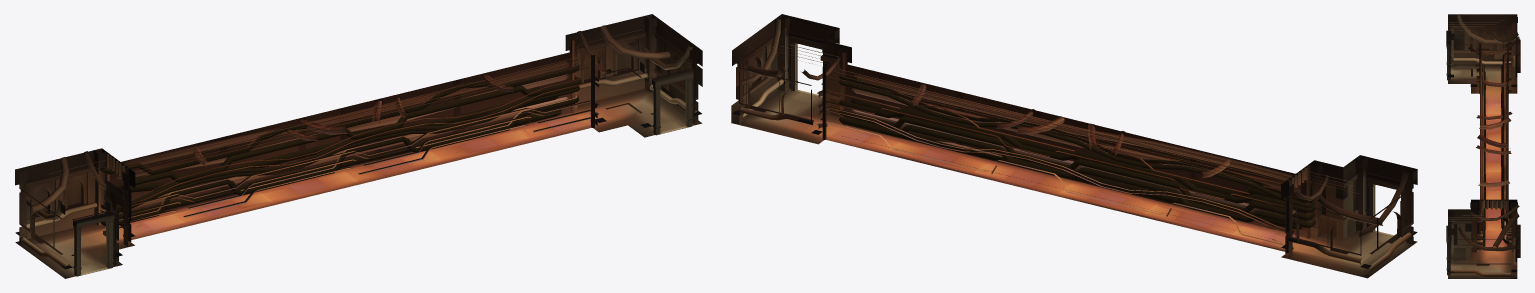
Rendered from 05Hall.gltf.
3 views of the same model, side by side, from view 1: azimuth 30°, elevation 25°; view 2: azimuth 150°, elevation 25°; view 3: azimuth 270°, elevation 25° (orthographic). The views are drawn at different scales.
Parts seen in each view (by area): view 1: stg031_g30_Mesh_0000, stg031_o30_Mesh_0006, stg031_o30_Mesh_0000, stg031_o30_Mesh_0031, stg031_o30_Mesh_0028, stg031_o30_Mesh_0002, stg031_o30_Mesh_0021, stg031_o30_Mesh_0010, stg031_o30_Mesh_0034, stg031_o30_Mesh_0020, stg031_o30_Mesh_0019, stg031_o30_Mesh_0013 (+6 smaller); view 2: stg031_g30_Mesh_0000, stg031_o30_Mesh_0006, stg031_o30_Mesh_0000, stg031_o30_Mesh_0031, stg031_o30_Mesh_0028, stg031_o30_Mesh_0002, stg031_o30_Mesh_0021, stg031_o30_Mesh_0010, stg031_o30_Mesh_0020, stg031_o30_Mesh_0034, stg031_o30_Mesh_0011, stg031_o30_Mesh_0017 (+4 smaller); view 3: stg031_o30_Mesh_0028, stg031_o30_Mesh_0006, stg031_o30_Mesh_0000, stg031_o30_Mesh_0002, stg031_o30_Mesh_0031, stg031_g30_Mesh_0000, stg031_o30_Mesh_0021, stg031_o30_Mesh_0034, stg031_o30_Mesh_0010, stg031_o30_Mesh_0013, stg031_o30_Mesh_0011, stg031_o30_Mesh_0020 (+7 smaller).
Part boxes in pixels (x1,y1,x2,y2): stg031_g30_Mesh_0000: [100, 59, 590, 228]; stg031_o30_Mesh_0006: [49, 29, 642, 226]; stg031_o30_Mesh_0000: [52, 52, 678, 272]; stg031_o30_Mesh_0031: [15, 14, 702, 274]; stg031_o30_Mesh_0028: [20, 25, 697, 272]; stg031_o30_Mesh_0002: [15, 16, 701, 269]; stg031_o30_Mesh_0021: [15, 18, 702, 267]; stg031_o30_Mesh_0010: [26, 36, 690, 275]; stg031_o30_Mesh_0034: [24, 90, 697, 277]; stg031_o30_Mesh_0020: [20, 26, 694, 256]; stg031_o30_Mesh_0019: [26, 72, 698, 256]; stg031_o30_Mesh_0013: [30, 38, 698, 240]; stg031_g30_Mesh_0000: [821, 72, 1316, 249]; stg031_o30_Mesh_0006: [761, 44, 1359, 249]; stg031_o30_Mesh_0000: [767, 64, 1391, 263]; stg031_o30_Mesh_0031: [732, 14, 1417, 270]; stg031_o30_Mesh_0028: [738, 19, 1413, 272]; stg031_o30_Mesh_0002: [732, 16, 1417, 268]; stg031_o30_Mesh_0021: [732, 20, 1417, 231]; stg031_o30_Mesh_0010: [743, 43, 1401, 256]; stg031_o30_Mesh_0020: [739, 26, 1412, 248]; stg031_o30_Mesh_0034: [738, 88, 1409, 275]; stg031_o30_Mesh_0011: [731, 42, 1352, 239]; stg031_o30_Mesh_0017: [736, 31, 1413, 219]; stg031_o30_Mesh_0028: [1450, 14, 1519, 276]; stg031_o30_Mesh_0006: [1448, 22, 1512, 248]; stg031_o30_Mesh_0000: [1450, 72, 1507, 271]; stg031_o30_Mesh_0002: [1448, 17, 1520, 274]; stg031_o30_Mesh_0031: [1448, 14, 1517, 275]; stg031_g30_Mesh_0000: [1480, 54, 1509, 246]; stg031_o30_Mesh_0021: [1446, 17, 1511, 269]; stg031_o30_Mesh_0034: [1448, 65, 1513, 277]; stg031_o30_Mesh_0010: [1460, 28, 1517, 269]; stg031_o30_Mesh_0013: [1453, 28, 1511, 244]; stg031_o30_Mesh_0011: [1453, 28, 1511, 259]; stg031_o30_Mesh_0020: [1448, 23, 1516, 255].
Bounding box in the file's own units: 111 × 12.37 × 16.04.
